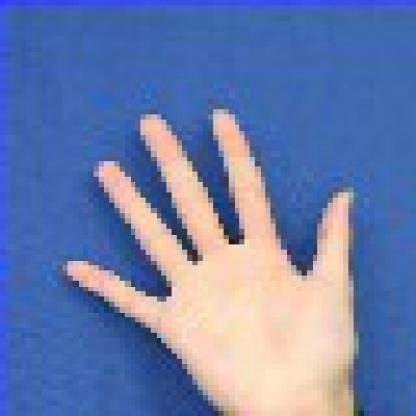five: (56, 86, 383, 416)
